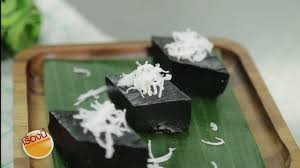kanompiakpoon: (103, 63, 196, 140), (47, 103, 149, 168), (148, 28, 235, 101)
